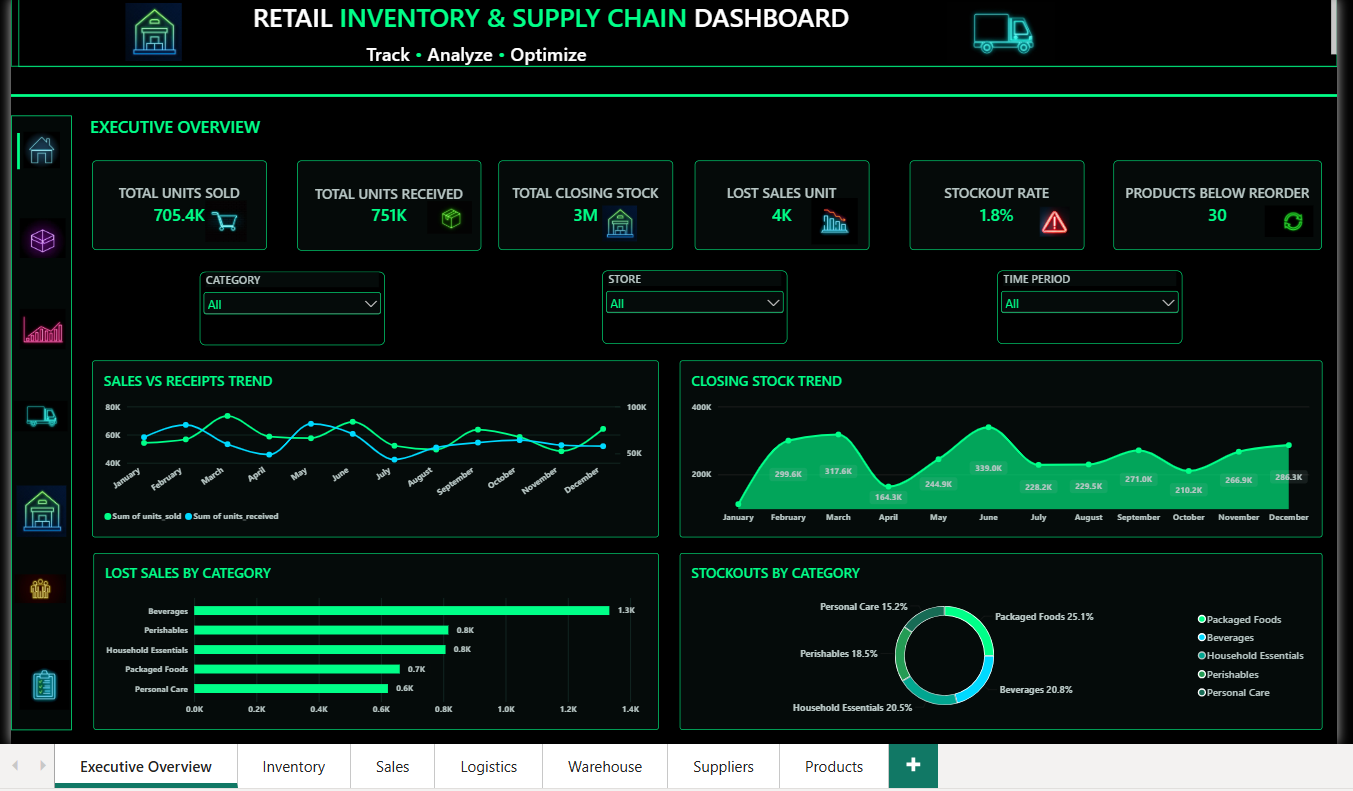

The page's visual inventory and layout, read from the dashboard file:
{"tool":"powerbi","page":{"name":"Executive Overview","canvas":[1920,1080],"ordinal":0},"visuals":[{"type":"shape","box":[10.3,0,1910.1,100],"z":0},{"type":"shape","box":[0,99.5,1920.1,83.2],"z":1000},{"type":"textbox","box":[0,0,1920.1,99.5],"z":2000},{"type":"image","box":[1356,0,156,100],"z":3000},{"type":"shape","box":[0,170,88,890],"z":4000},{"type":"image","box":[10.9,193.6,67,52.5],"z":5000},{"type":"shape","box":[0,195.4,21.7,52.5],"z":6000},{"type":"image","box":[12,300,66,94],"z":7000},{"type":"image","box":[12,418,66,122],"z":8000},{"type":"image","box":[4,560,78,92],"z":9000},{"type":"image","box":[8,706,74,74],"z":10000},{"type":"image","box":[6,780,74,150],"z":11000},{"type":"image","box":[12,932,72,124],"z":12000},{"type":"textbox","box":[101.3,170.1,282.3,38],"z":13000},{"type":"cardVisual","fields":{"Data":["inventory_ledger_clean.Total Units Sold"]},"box":[117.4,234.7,253,129.5],"z":14000},{"type":"cardVisual","fields":{"Data":["inventory_ledger_clean.Total Units Received"]},"box":[414.4,235.3,266,130.3],"z":15000},{"type":"cardVisual","fields":{"Data":["inventory_ledger_clean.Total Closing Stock"]},"box":[706.2,234.7,253,129.5],"z":16000},{"type":"cardVisual","fields":{"Data":["inventory_ledger_clean.Lost Sales Units"]},"box":[989.5,234.7,253,129.5],"z":17000},{"type":"cardVisual","fields":{"Data":["inventory_ledger_clean.Stockout Rate"]},"box":[1301.2,234.7,253,129.5],"z":18000},{"type":"cardVisual","fields":{"Data":["inventory_ledger_clean.Products Below Reorder"]},"box":[1596.6,234.7,301.5,129.5],"z":19000},{"type":"lineChart","title":"SALES VS RECEIPTS TREND","fields":{"Category":["inventory_ledger_clean.week_start.Variation.Date Hierarchy.Month"],"Y":["Sum(inventory_ledger_clean.units_sold)"],"Y2":["Sum(inventory_ledger_clean.units_received)"]},"box":[118,524,820,256],"z":20000},{"type":"donutChart","title":"STOCKOUTS BY CATEGORY","fields":{"Category":["inventory_ledger_clean.category"],"Y":["Sum(inventory_ledger_clean.stockout_flag)"]},"box":[968,804,930,256],"z":21000},{"type":"clusteredBarChart","title":"LOST SALES BY CATEGORY","fields":{"Category":["inventory_ledger_clean.category"],"Y":["Sum(inventory_ledger_clean.lost_sales_units)"]},"box":[120,804,818,256],"z":22000},{"type":"stackedAreaChart","title":"CLOSING STOCK TREND","fields":{"Category":["inventory_ledger_clean.week_start.Variation.Date Hierarchy.Month"],"Y":["Sum(inventory_ledger_clean.closing_stock)"]},"box":[968,524,930,256],"z":23000},{"type":"slicer","fields":{"Values":["inventory_ledger_clean.category"]},"box":[274,396,268,106],"z":24000},{"type":"slicer","fields":{"Values":["inventory_ledger_clean.store_id"]},"box":[856,394,268,106],"z":25000},{"type":"slicer","fields":{"Values":["inventory_ledger_clean.week_start"]},"box":[1428,394,268,106],"z":26000},{"type":"image","box":[84,8,246,84],"z":27000},{"type":"image","box":[273.3,293.2,76,59.7],"z":28000},{"type":"image","box":[602.6,293.2,65.1,48.9],"z":29000},{"type":"image","box":[856,300.4,50.7,52.5],"z":30000},{"type":"image","box":[1141.9,289.5,101.3,67],"z":31000},{"type":"image","box":[1474.9,302.2,72.4,43.4],"z":32000},{"type":"image","box":[1815.1,293.2,70.6,59.7],"z":33000}]}

Visuals, with their boxes on the page's 1920x1080 design canvas (x1, y1, x2, y2). These are canvas units, not pixel positions in the 1353x791 screenshot, which may show the page scaled, cropped or inside an application window:
shape: locate(10, 0, 1920, 100)
shape: locate(0, 100, 1920, 183)
textbox: locate(0, 0, 1920, 100)
image: locate(1356, 0, 1512, 100)
shape: locate(0, 170, 88, 1060)
image: locate(11, 194, 78, 246)
shape: locate(0, 195, 22, 248)
image: locate(12, 300, 78, 394)
image: locate(12, 418, 78, 540)
image: locate(4, 560, 82, 652)
image: locate(8, 706, 82, 780)
image: locate(6, 780, 80, 930)
image: locate(12, 932, 84, 1056)
textbox: locate(101, 170, 384, 208)
cardVisual - inventory_ledger_clean.Total Units Sold: locate(117, 235, 370, 364)
cardVisual - inventory_ledger_clean.Total Units Received: locate(414, 235, 680, 366)
cardVisual - inventory_ledger_clean.Total Closing Stock: locate(706, 235, 959, 364)
cardVisual - inventory_ledger_clean.Lost Sales Units: locate(990, 235, 1242, 364)
cardVisual - inventory_ledger_clean.Stockout Rate: locate(1301, 235, 1554, 364)
cardVisual - inventory_ledger_clean.Products Below Reorder: locate(1597, 235, 1898, 364)
"SALES VS RECEIPTS TREND" lineChart: locate(118, 524, 938, 780)
"STOCKOUTS BY CATEGORY" donutChart: locate(968, 804, 1898, 1060)
"LOST SALES BY CATEGORY" clusteredBarChart: locate(120, 804, 938, 1060)
"CLOSING STOCK TREND" stackedAreaChart: locate(968, 524, 1898, 780)
slicer - inventory_ledger_clean.category: locate(274, 396, 542, 502)
slicer - inventory_ledger_clean.store_id: locate(856, 394, 1124, 500)
slicer - inventory_ledger_clean.week_start: locate(1428, 394, 1696, 500)
image: locate(84, 8, 330, 92)
image: locate(273, 293, 349, 353)
image: locate(603, 293, 668, 342)
image: locate(856, 300, 907, 353)
image: locate(1142, 290, 1243, 356)
image: locate(1475, 302, 1547, 346)
image: locate(1815, 293, 1886, 353)
